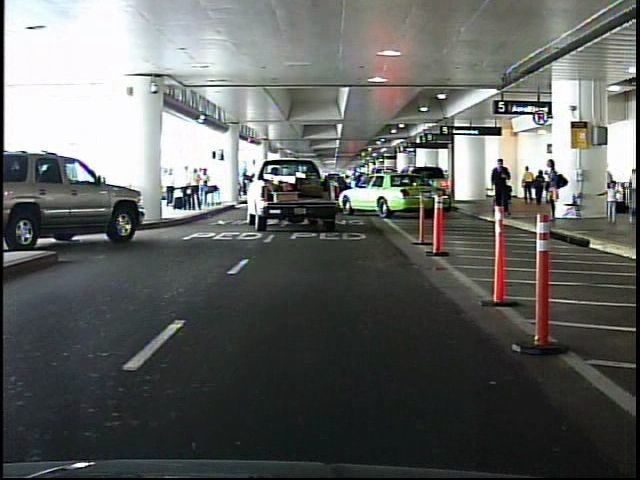person: (541, 155, 567, 225), (490, 156, 512, 219), (597, 176, 622, 226), (534, 170, 545, 207), (523, 166, 533, 204)
